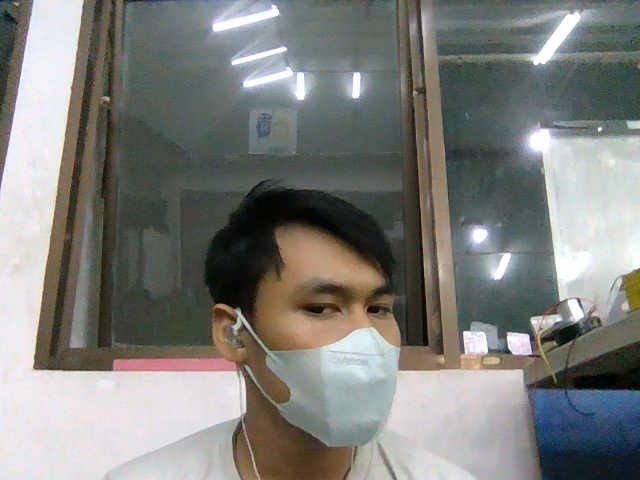mask_on: (264, 322, 401, 446)
